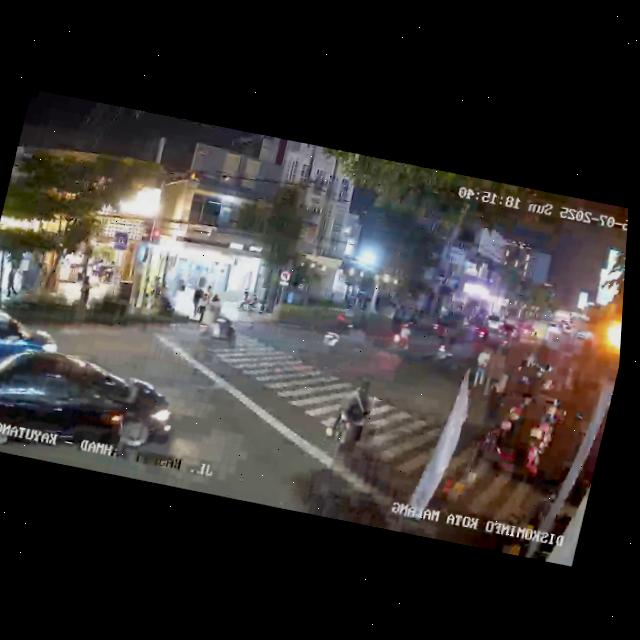car: (0, 333, 185, 479), (0, 305, 62, 390)
motorcycle: (196, 300, 245, 351), (319, 307, 356, 352), (427, 334, 458, 371), (386, 320, 415, 358), (472, 320, 491, 343)
person: (331, 376, 378, 466), (482, 370, 510, 416), (468, 348, 494, 390), (203, 290, 224, 321), (75, 274, 94, 308), (3, 266, 22, 299), (188, 284, 204, 319), (0, 263, 2, 295)
